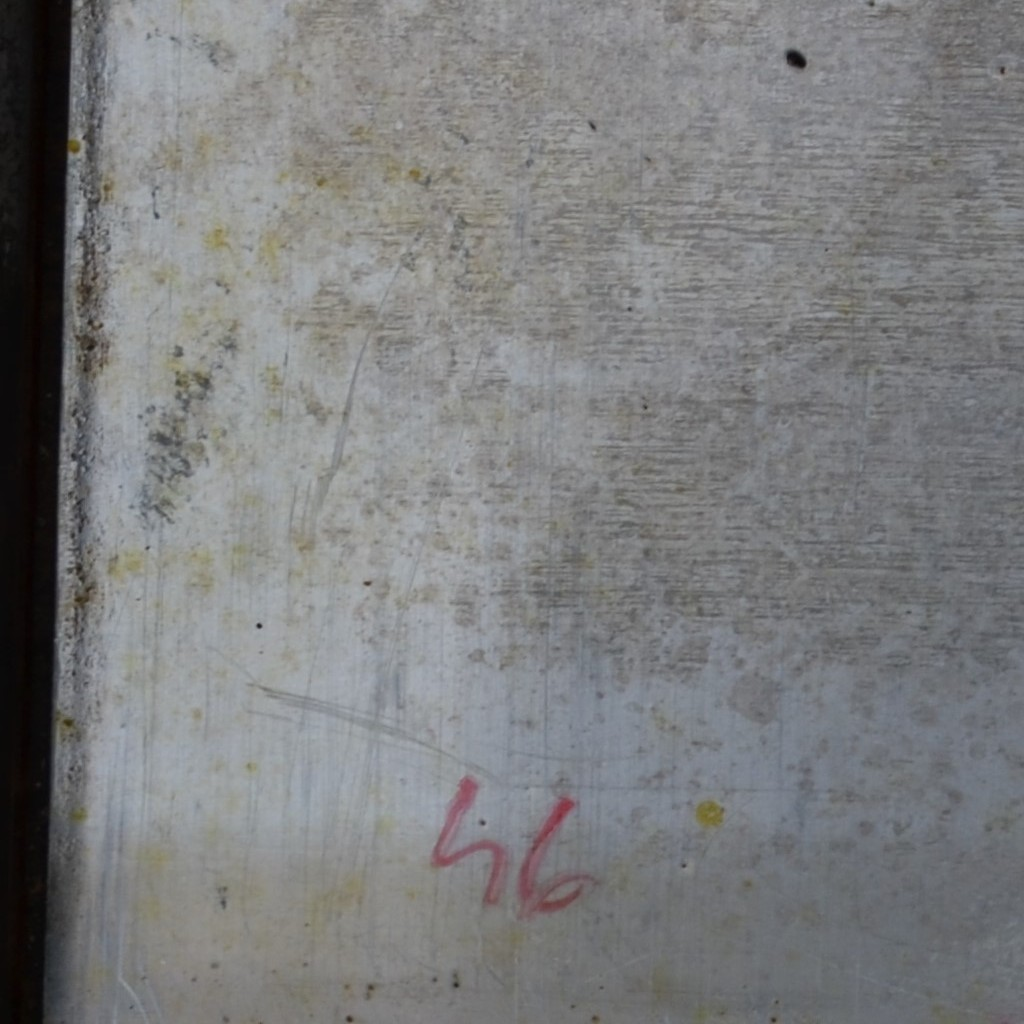varroa: (784, 45, 807, 71)
